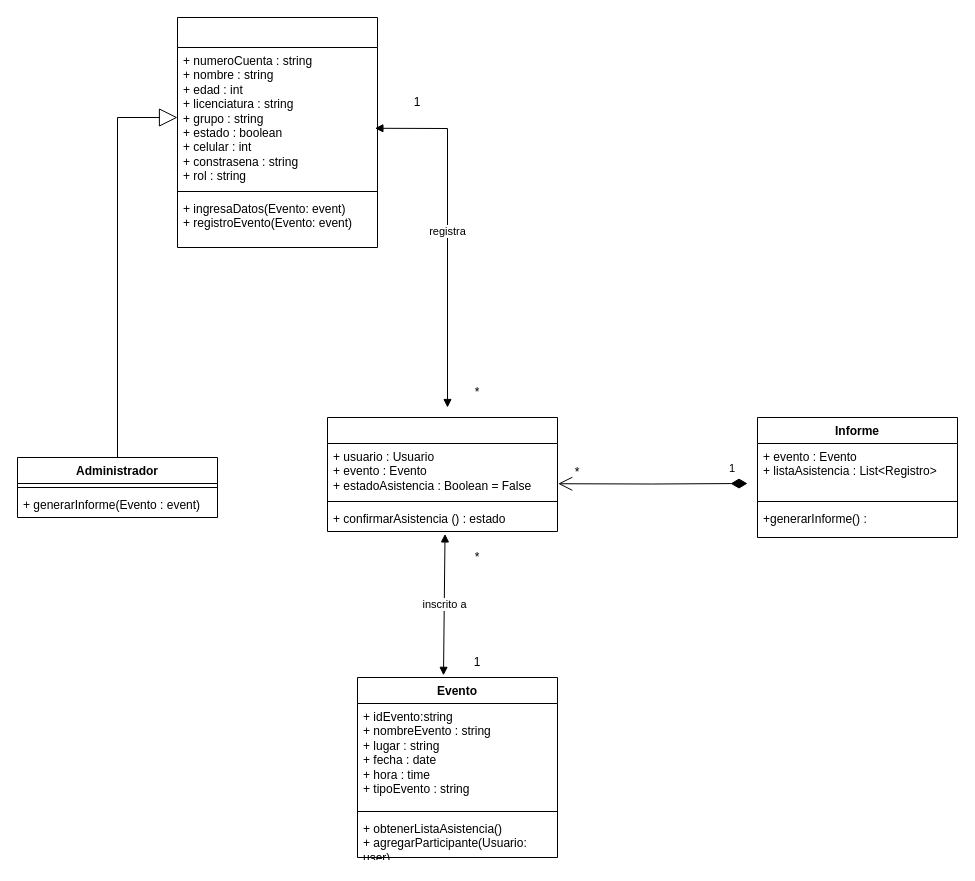
The diagram is 975 pixels wide and 881 high, and some of its shapes have lost their labels. Here are the shapes that lost their labels. From the top down, the box of each, then its label:
(176, 16, 378, 248): Usuario
(326, 416, 558, 532): Registro
